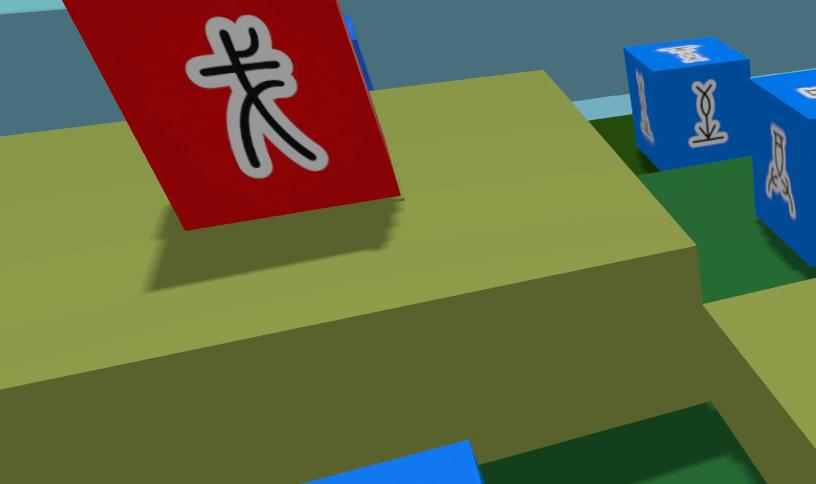KFS_FAKE: (64, 0, 400, 229), (185, 15, 328, 179)
KFS_REAL: (624, 37, 749, 169), (750, 69, 815, 264), (303, 442, 483, 483), (765, 124, 796, 216), (687, 79, 727, 147), (636, 72, 654, 143), (657, 44, 707, 62), (798, 86, 815, 98)
